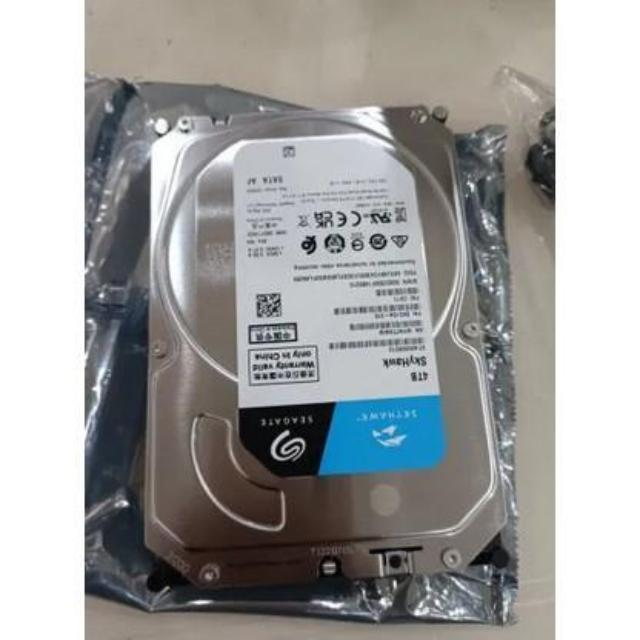DISK: (142, 110, 516, 592)
